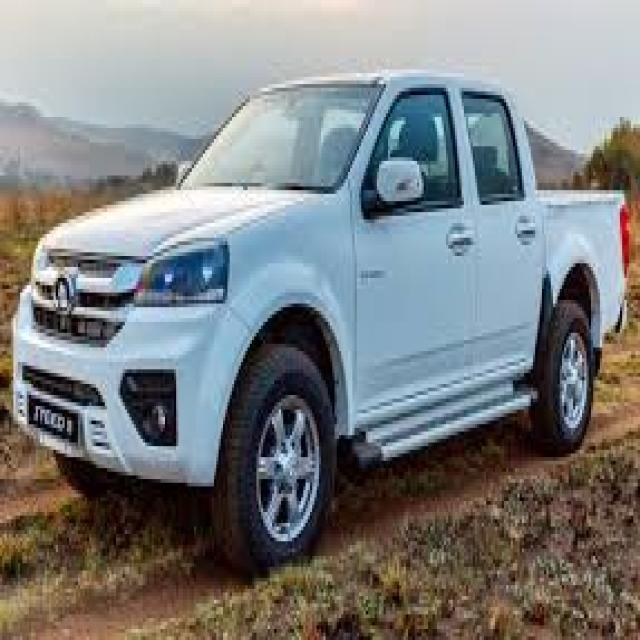Pickup Trucks: (11, 73, 631, 574)
